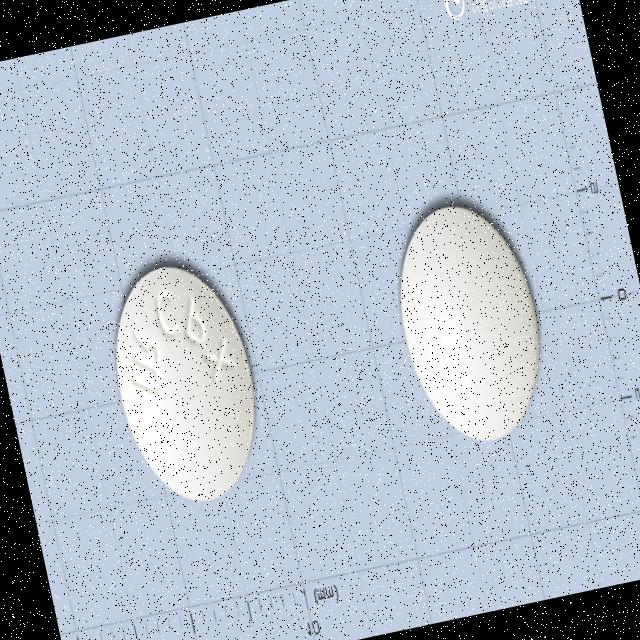Ciprofloxacin Tab- Mirae: (378, 190, 564, 462), (94, 248, 278, 518)
